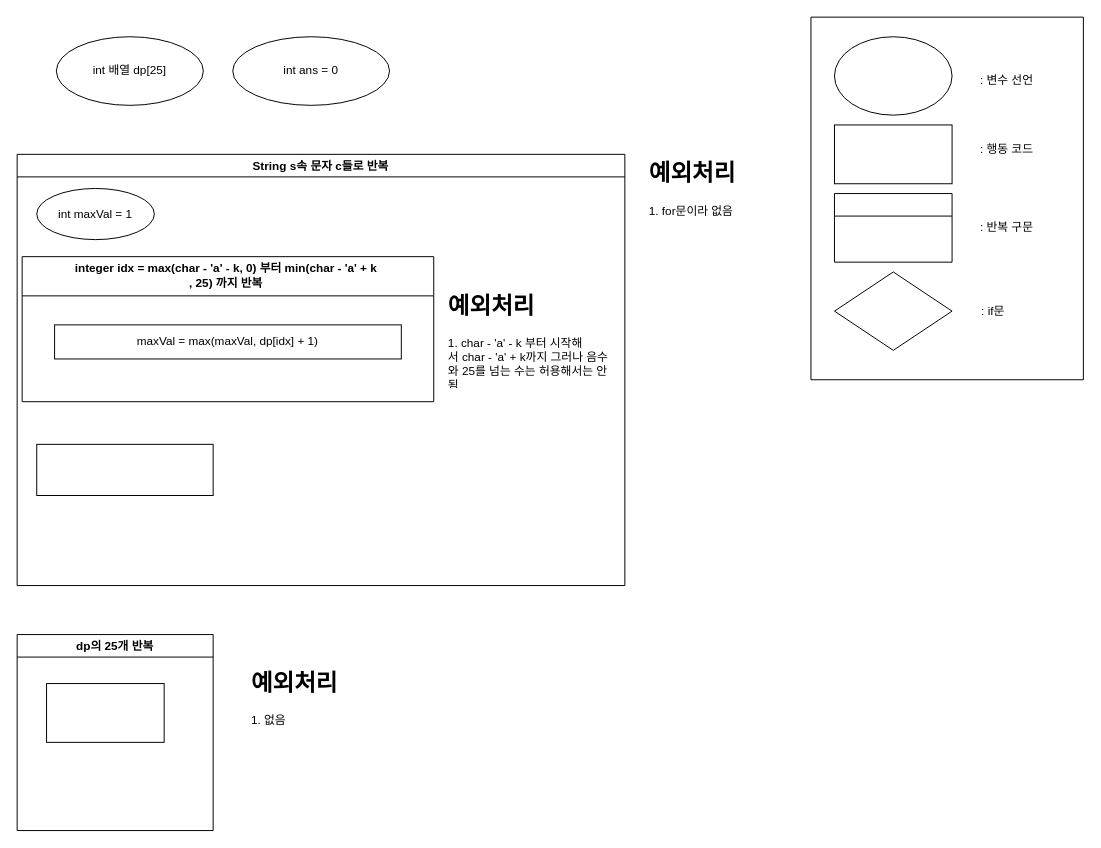
This 1101x848 diagram has some shape labels left out. The centre of each missing label's shape, as x and y in pixels:
ans = max(ans, dp[i]): (105,712)
dp[c- 'a'] = maxVal: (124,469)
~ 동안: (892,227)
